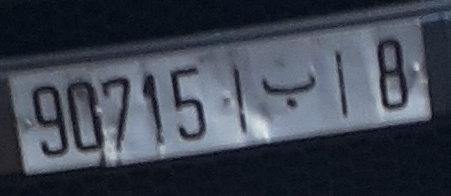0: (69, 78, 101, 155)
1: (136, 66, 167, 152)
5: (168, 64, 207, 142)
7: (100, 71, 134, 154)
8: (371, 33, 413, 114)
9: (29, 80, 75, 161)
b: (258, 60, 322, 116)
